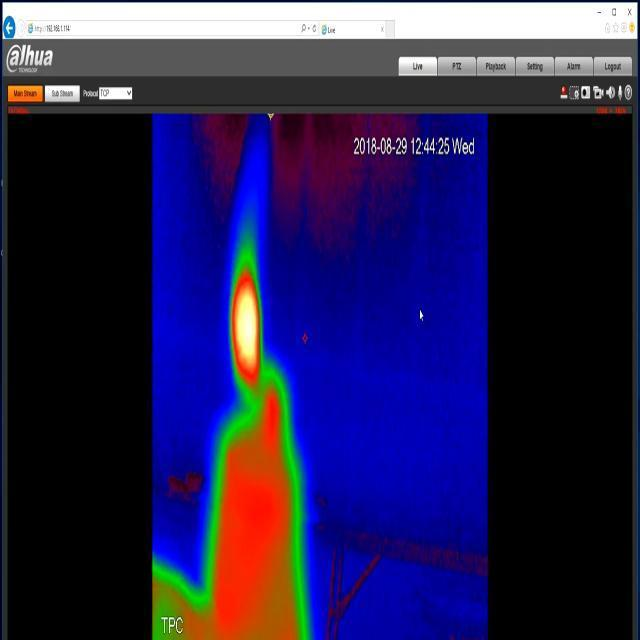fire: (231, 252, 264, 394)
